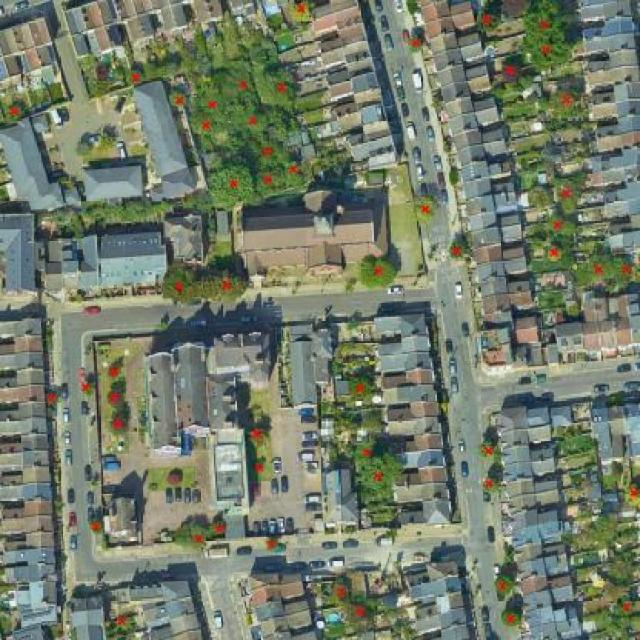tree: (356, 453, 409, 498), (208, 163, 255, 212), (522, 34, 576, 72), (188, 271, 248, 303), (525, 4, 567, 42), (160, 265, 198, 306), (358, 254, 396, 291), (245, 137, 290, 168), (342, 595, 384, 623), (171, 520, 207, 552), (263, 104, 294, 139), (250, 168, 285, 197), (540, 212, 578, 238), (188, 112, 224, 139), (549, 85, 585, 112), (265, 73, 298, 102), (352, 437, 386, 465), (282, 159, 308, 193), (0, 97, 29, 126), (238, 107, 268, 135), (411, 196, 438, 227), (557, 180, 581, 214), (199, 91, 226, 118), (586, 253, 609, 284), (230, 72, 258, 97), (609, 256, 633, 284), (525, 184, 550, 210), (498, 62, 524, 86), (347, 376, 371, 401), (329, 579, 353, 603), (289, 1, 316, 22), (621, 481, 640, 510), (475, 10, 500, 32), (87, 79, 111, 101), (612, 596, 636, 618), (248, 426, 268, 452), (544, 243, 567, 265), (499, 607, 523, 628), (114, 614, 138, 635), (168, 88, 190, 110), (493, 575, 516, 596), (476, 440, 499, 460), (448, 238, 467, 262), (106, 389, 126, 411), (206, 518, 228, 538), (125, 67, 146, 87), (109, 414, 129, 435), (482, 474, 502, 495), (406, 33, 425, 55), (97, 132, 117, 152), (74, 140, 94, 158), (88, 516, 104, 536), (44, 390, 61, 408), (263, 535, 282, 551), (167, 469, 184, 486), (344, 316, 362, 332), (251, 458, 267, 473), (567, 303, 581, 319), (82, 381, 95, 397), (107, 368, 121, 381), (553, 426, 565, 439)
